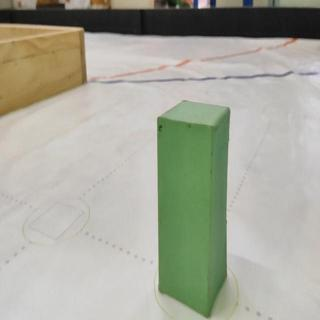greenbox: (155, 97, 232, 320)
